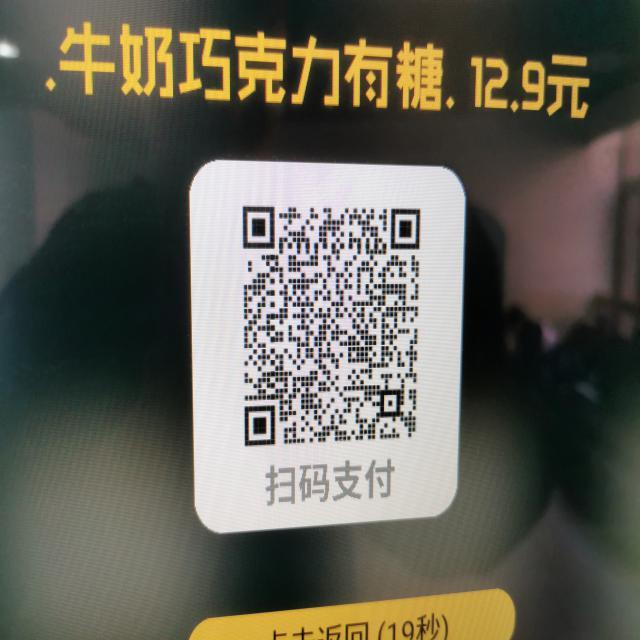qr_code: (242, 206, 420, 446)
